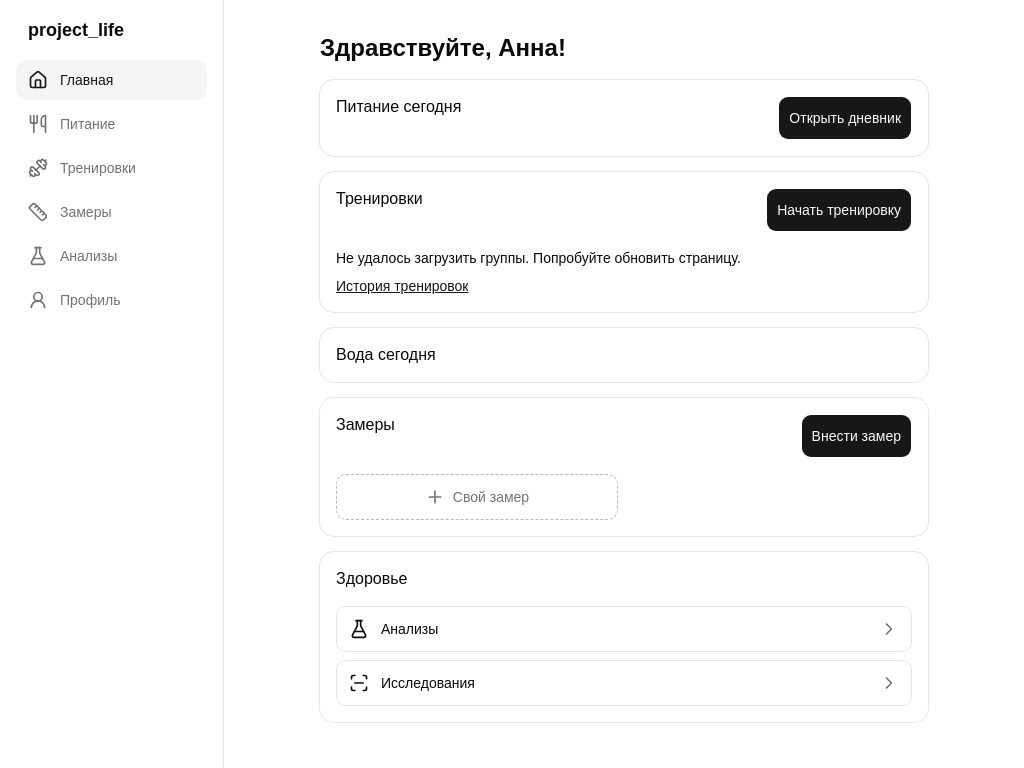
Test case: защита маршрутов › переходит между разделами по меню
This screenshot has width=1024, height=768.
Click the link "Профиль". click: (74, 300)
box: [28, 290, 120, 310]
(page scrolled)
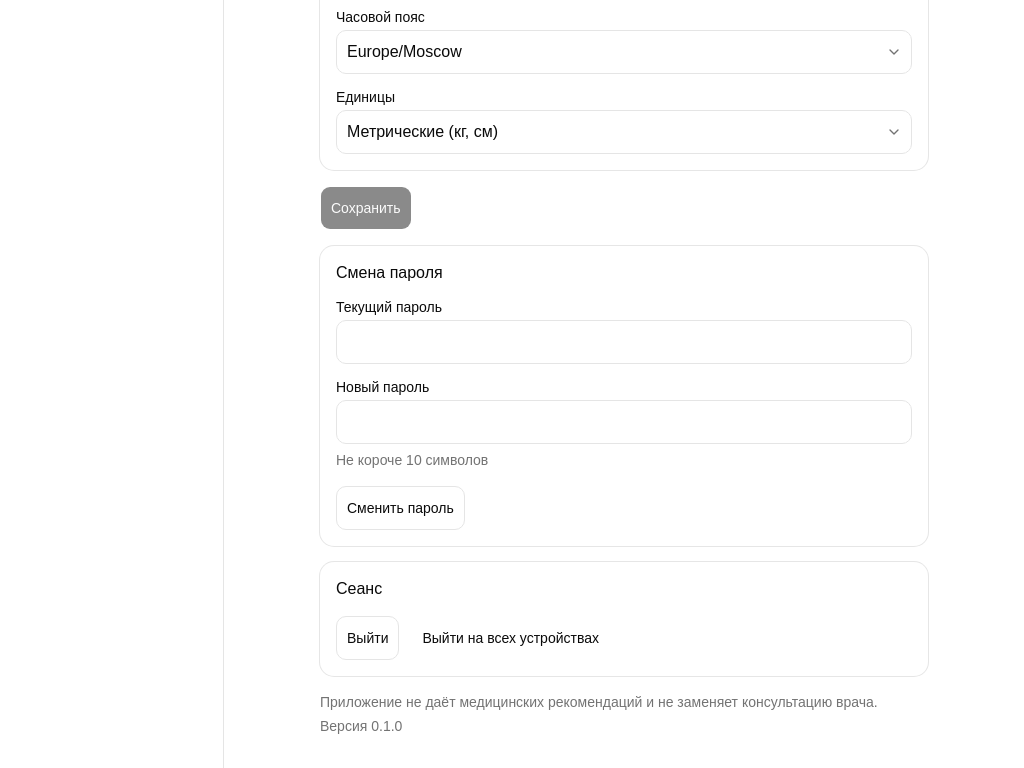
expect the text "Версия 0.1.0" is shown: met, box [320, 718, 402, 734]
